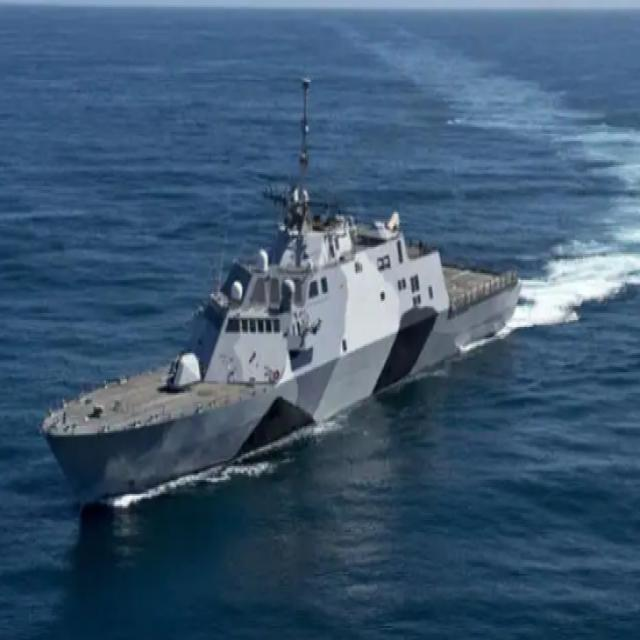navalvessels: (48, 69, 524, 512)
